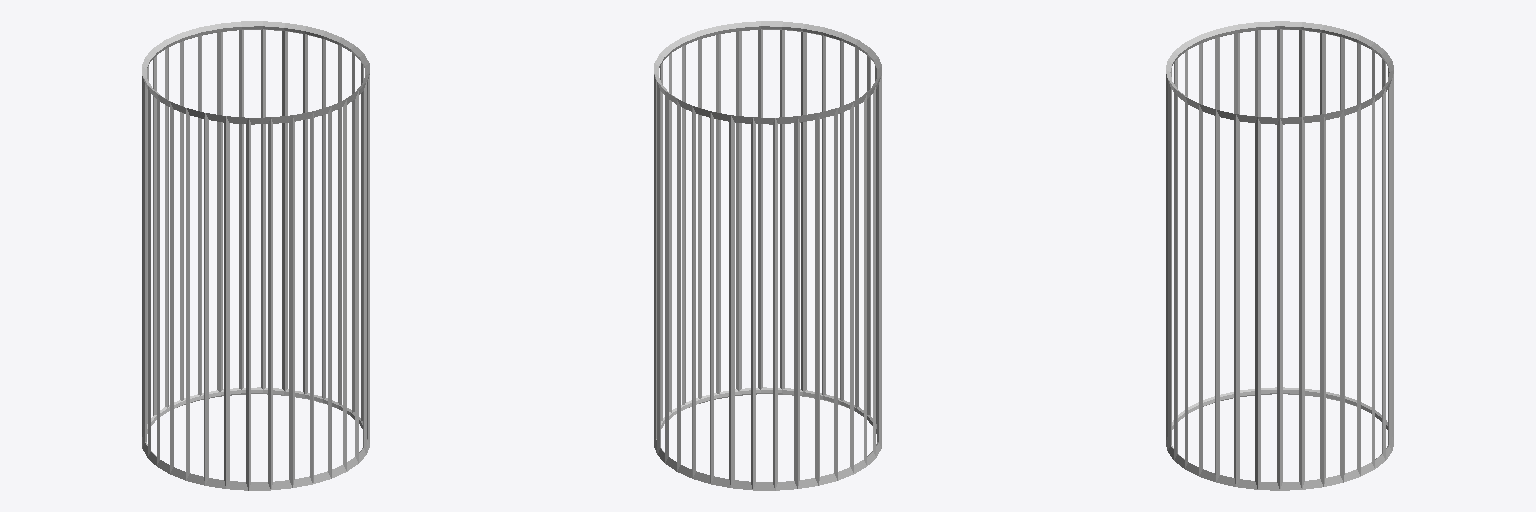
The model's file is Can.obj.
3 renders of one model, left to right at view 1: azimuth 30°, elevation 25°; view 2: azimuth 150°, elevation 25°; view 3: azimuth 270°, elevation 25°, orthographic.
Visible parts, largest first — view 1: Soda_Can; view 2: Soda_Can; view 3: Soda_Can.
Part boxes in pixels (left/top/right/bottom): Soda_Can: left=142, top=21, right=369, bottom=490; Soda_Can: left=654, top=21, right=881, bottom=490; Soda_Can: left=1166, top=21, right=1393, bottom=490.
Bounding box in the file's own units: 1.54 × 2.77 × 1.54.